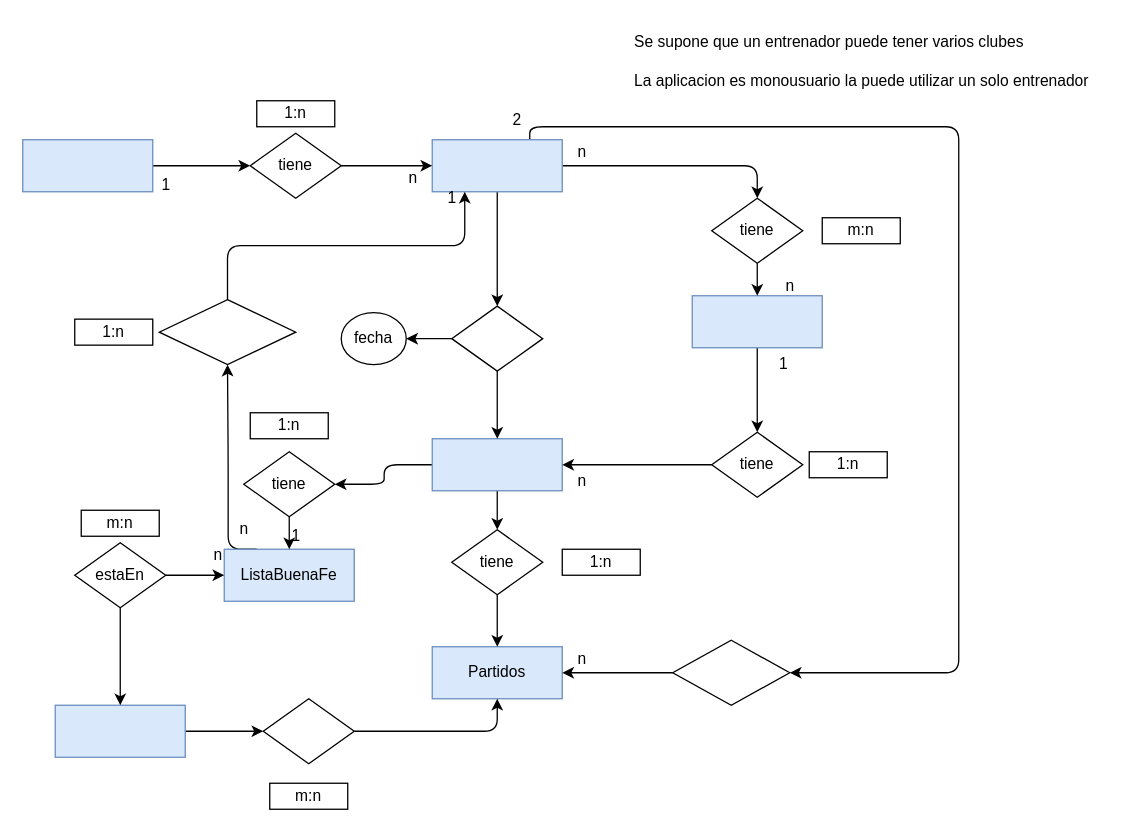
The diagram is 1125 pixels wide and 832 high, and some of its shapes have lost their labels. Each missing label, with the centre of its shape:
Categorias: the point at 756,321
Club: the point at 496,165
Competiciones: the point at 496,464
Jugadores: the point at 119,730
lePerteneceA: the point at 227,331
participa: the point at 496,338
participaEn: the point at 730,672
participan: the point at 308,730
Usuario: the point at 87,165
